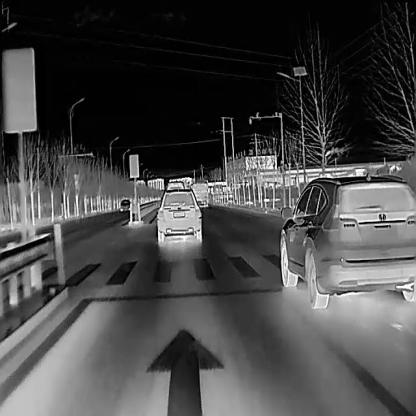bus: (191, 182, 207, 206)
car: (279, 169, 415, 308), (156, 185, 201, 243), (119, 198, 129, 210)
